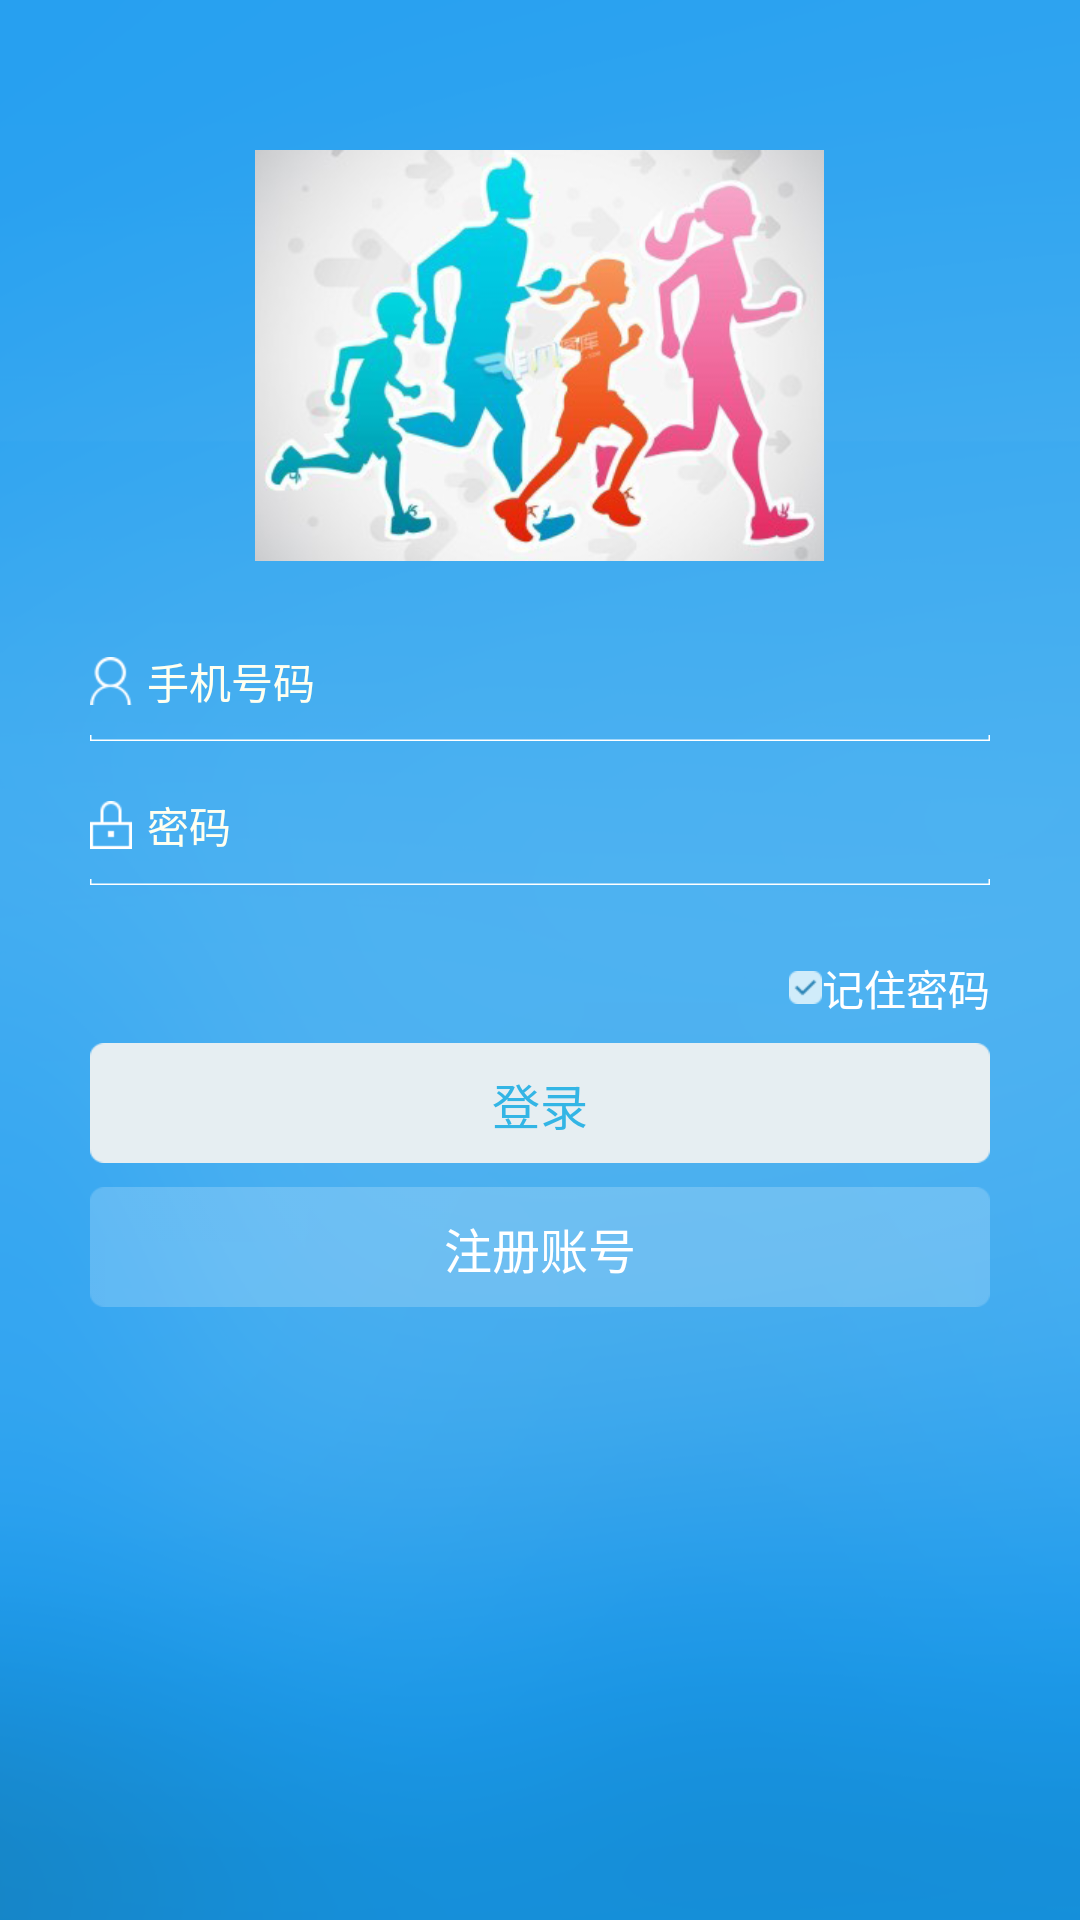

Icon bounding boxes for this 1080 x 1920 phone screenshot, format {"x1": x1, "y1": y1, "x2": x2, "y2": y2}:
login lock: {"x1": 90, "y1": 801, "x2": 132, "y2": 849}
login user: {"x1": 90, "y1": 657, "x2": 132, "y2": 705}
